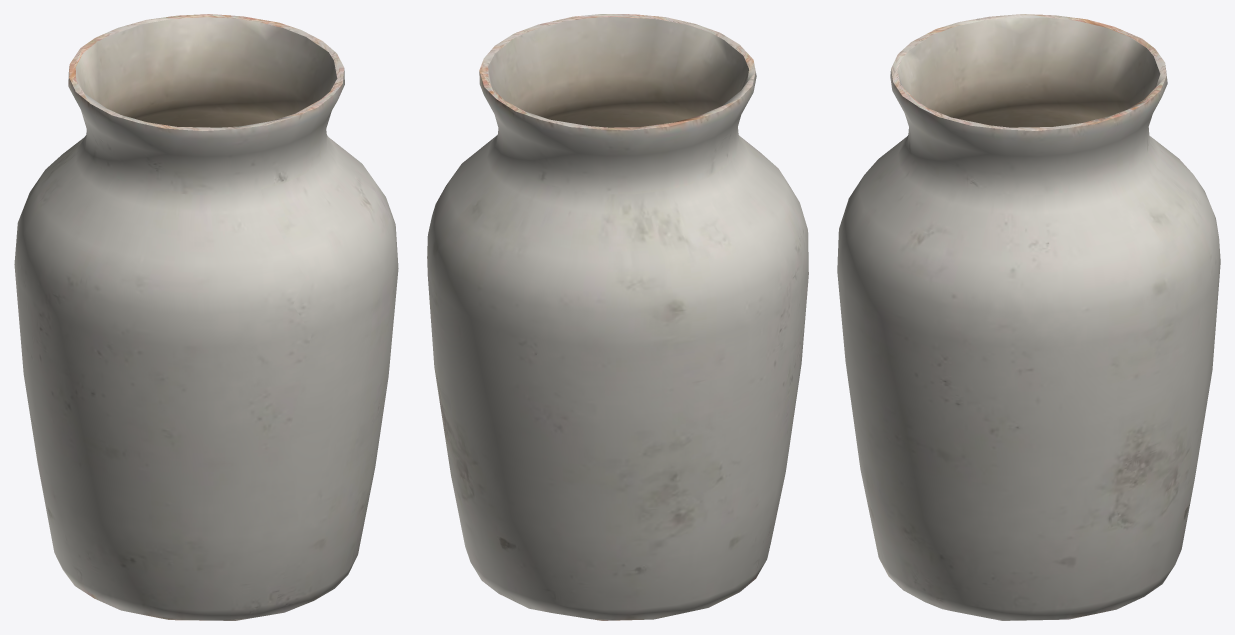
Rendered from jug_white.glb.
The picture shows the model from 3 angles, left to right: view 1: azimuth 30°, elevation 25°; view 2: azimuth 150°, elevation 25°; view 3: azimuth 270°, elevation 25°; orthographic projection.
Visible parts, largest first — view 1: jug_white; view 2: jug_white; view 3: jug_white.
Part boxes in pixels (x1,y1,x2,y2): jug_white: [14, 14, 398, 620]; jug_white: [427, 14, 808, 620]; jug_white: [837, 14, 1220, 620].
Size of the model in its own units: 0.4236 by 0.6 by 0.4239.
1 material, 1 textured.
